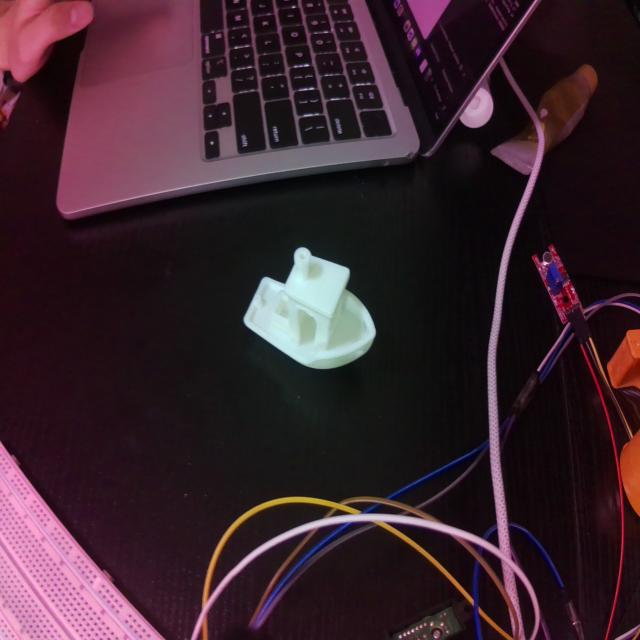ship: (244, 245, 377, 372)
